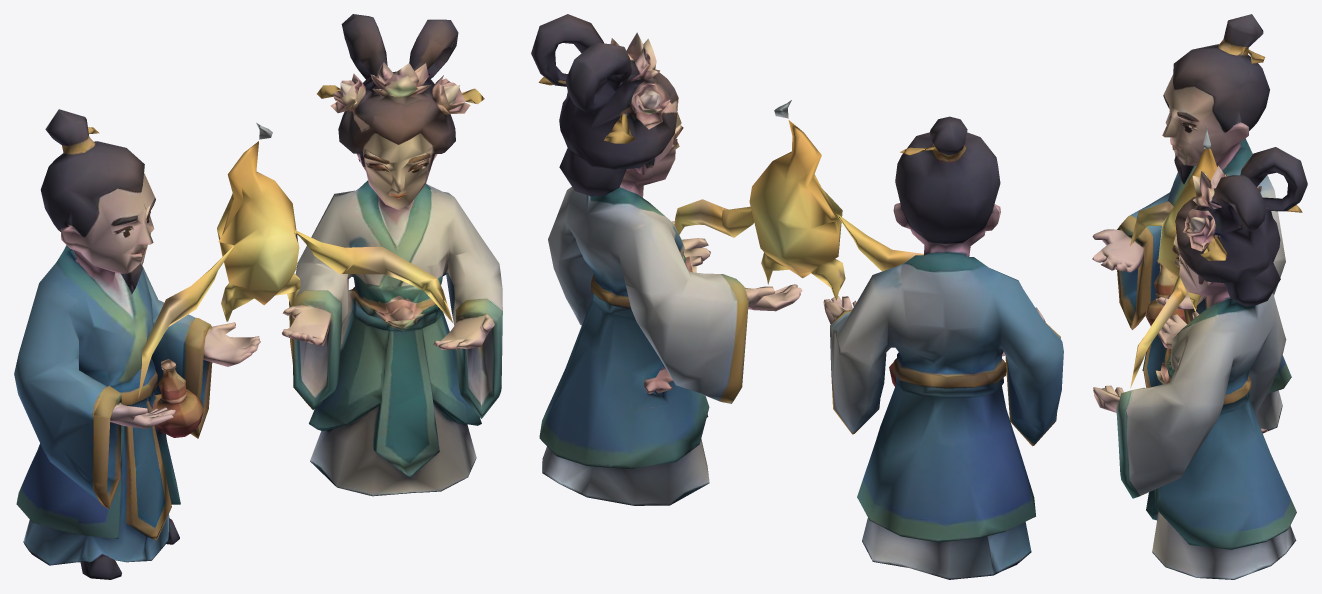
File: ss_tiandehe.glb
3 renders of one model, left to right at view 1: azimuth 30°, elevation 25°; view 2: azimuth 150°, elevation 25°; view 3: azimuth 270°, elevation 25°, orthographic. The views are drawn at different scales.
Visible parts, largest first — view 1: tripo_node_2defa485-268f-4031-9779-3979481173a7; view 2: tripo_node_2defa485-268f-4031-9779-3979481173a7; view 3: tripo_node_2defa485-268f-4031-9779-3979481173a7.
Part boxes in pixels (x1,y1,x2,y2): tripo_node_2defa485-268f-4031-9779-3979481173a7: [14, 14, 502, 579]; tripo_node_2defa485-268f-4031-9779-3979481173a7: [531, 14, 1063, 579]; tripo_node_2defa485-268f-4031-9779-3979481173a7: [1092, 14, 1307, 579].
Size of the model in its own units: 0.9988 by 0.8731 by 0.424.
Materials: 1 (1 with a texture image).
